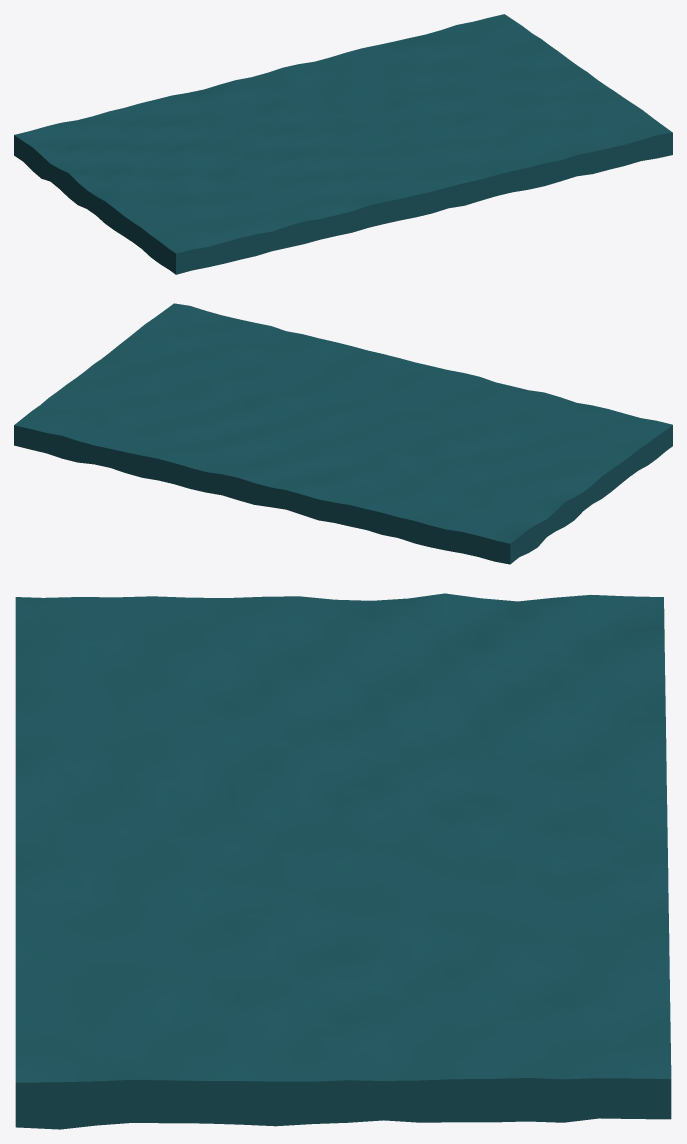
Rendered from Agua_Animada.fbx.
3 renders of one model, top to bottom at view 1: azimuth 30°, elevation 25°; view 2: azimuth 150°, elevation 25°; view 3: azimuth 270°, elevation 25°, orthographic. The views are drawn at different scales.
Parts seen in each view (by area): view 1: pCube5; view 2: pCube5; view 3: pCube5.
Part boxes in pixels (x1=…): pCube5: x1=14, y1=14, x2=672, y2=274; pCube5: x1=14, y1=303, x2=672, y2=564; pCube5: x1=15, y1=593, x2=671, y2=1129.
Bounding box in the file's own units: 2.39 × 0.12 × 1.37.
